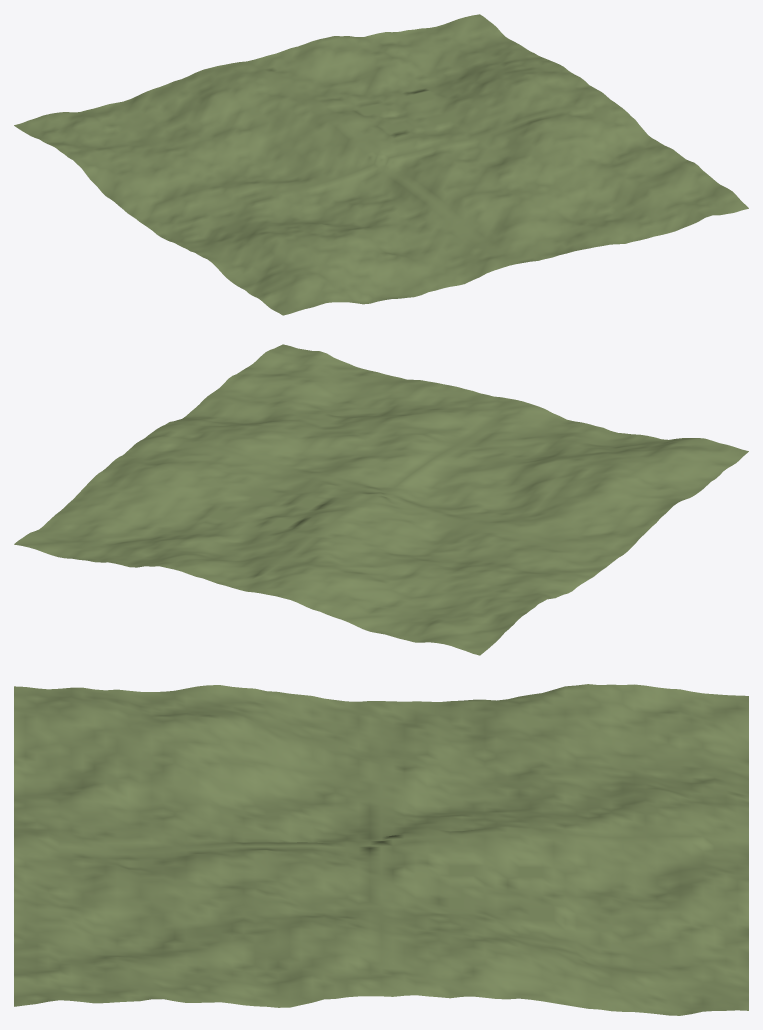
3 views of the same model, one above another, from view 1: azimuth 30°, elevation 25°; view 2: azimuth 150°, elevation 25°; view 3: azimuth 270°, elevation 25° (orthographic). The views are drawn at different scales.
Visible parts, largest first — view 1: chunk_1_1, chunk_3_3, chunk_0_1, chunk_3_2, chunk_0_3, chunk_1_3, chunk_2_3, chunk_1_0, chunk_2_2, chunk_2_0, chunk_1_2, chunk_2_1 (+4 smaller); view 2: chunk_0_2, chunk_3_1, chunk_1_0, chunk_1_2, chunk_0_0, chunk_3_0, chunk_1_1, chunk_2_2, chunk_3_3, chunk_2_1, chunk_0_1, chunk_0_3 (+4 smaller); view 3: chunk_2_0, chunk_2_1, chunk_3_0, chunk_0_0, chunk_3_2, chunk_1_3, chunk_2_3, chunk_0_3, chunk_0_2, chunk_3_1, chunk_0_1, chunk_1_2 (+4 smaller).
Part boxes in pixels (box(x1,y1,x2,y2)): chunk_1_1: box(198, 105, 380, 195); chunk_3_3: box(565, 156, 748, 241); chunk_0_1: box(81, 143, 264, 227); chunk_3_2: box(498, 102, 681, 187); chunk_0_3: box(215, 236, 399, 315); chunk_1_3: box(333, 215, 515, 298); chunk_2_3: box(449, 187, 632, 263); chunk_1_0: box(131, 61, 313, 143); chunk_2_2: box(382, 131, 564, 214); chunk_2_0: box(247, 36, 429, 105); chunk_1_2: box(265, 160, 448, 235); chunk_2_1: box(314, 90, 497, 159); chunk_0_2: box(498, 470, 681, 560); chunk_3_1: box(81, 435, 264, 521); chunk_1_0: box(247, 537, 430, 628); chunk_1_2: box(382, 449, 564, 528); chunk_0_0: box(363, 575, 546, 655); chunk_3_0: box(14, 490, 197, 567); chunk_1_1: box(314, 493, 497, 574); chunk_2_2: box(265, 422, 448, 492); chunk_3_3: box(216, 344, 398, 421); chunk_2_1: box(198, 464, 380, 536); chunk_0_1: box(431, 529, 614, 599); chunk_0_3: box(565, 434, 748, 500); chunk_2_0: box(565, 834, 748, 932); chunk_2_1: box(381, 832, 565, 930); chunk_3_0: box(565, 923, 748, 1015); chunk_0_0: box(565, 684, 748, 776); chunk_3_2: box(197, 916, 381, 1007); chunk_1_3: box(14, 758, 197, 854); chunk_2_3: box(14, 849, 197, 936); chunk_0_3: box(14, 686, 197, 780); chunk_0_2: box(197, 685, 381, 778); chunk_3_1: box(381, 917, 565, 1004); chunk_0_1: box(381, 686, 565, 779); chunk_1_2: box(197, 762, 381, 849).
Bounding box in the file's own units: 512 × 23.95 × 512.
